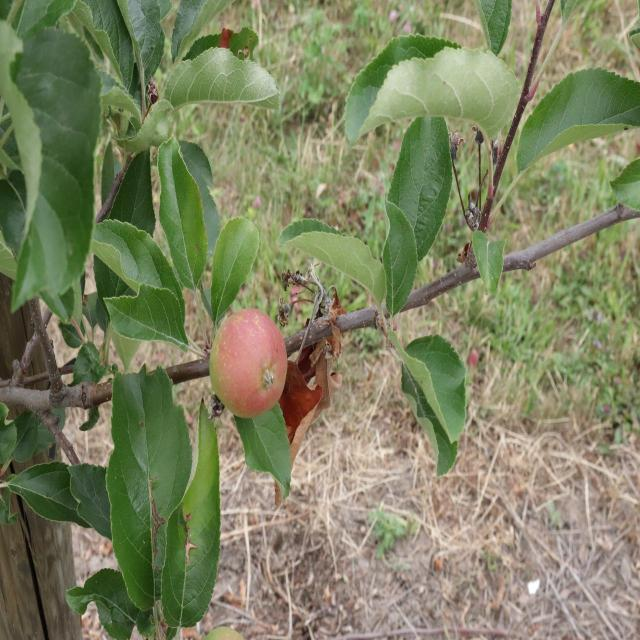-FireBlight-: (278, 285, 343, 432)
